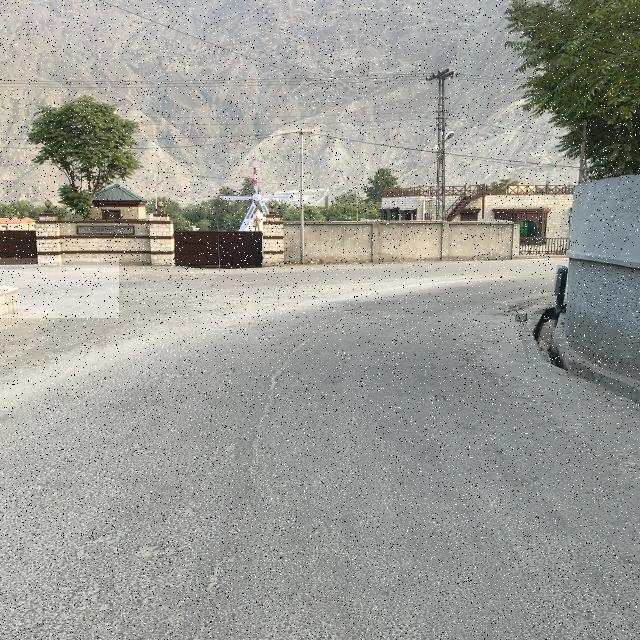left: (0, 258, 119, 318)
right: (338, 253, 570, 365)
